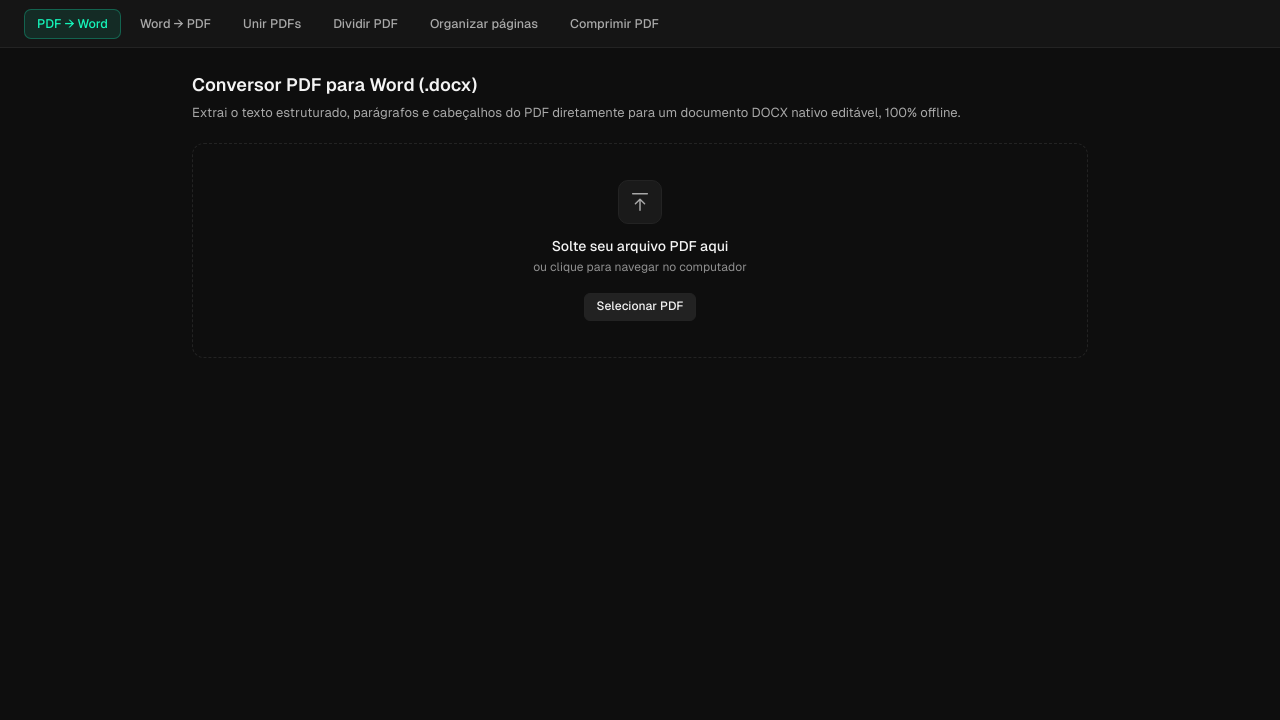
Test: Document Engine Screens Tests › handles Word to PDF LibreOffice detection status card
Click the button "Word → PDF" at (176, 24), box [127,8,224,38]
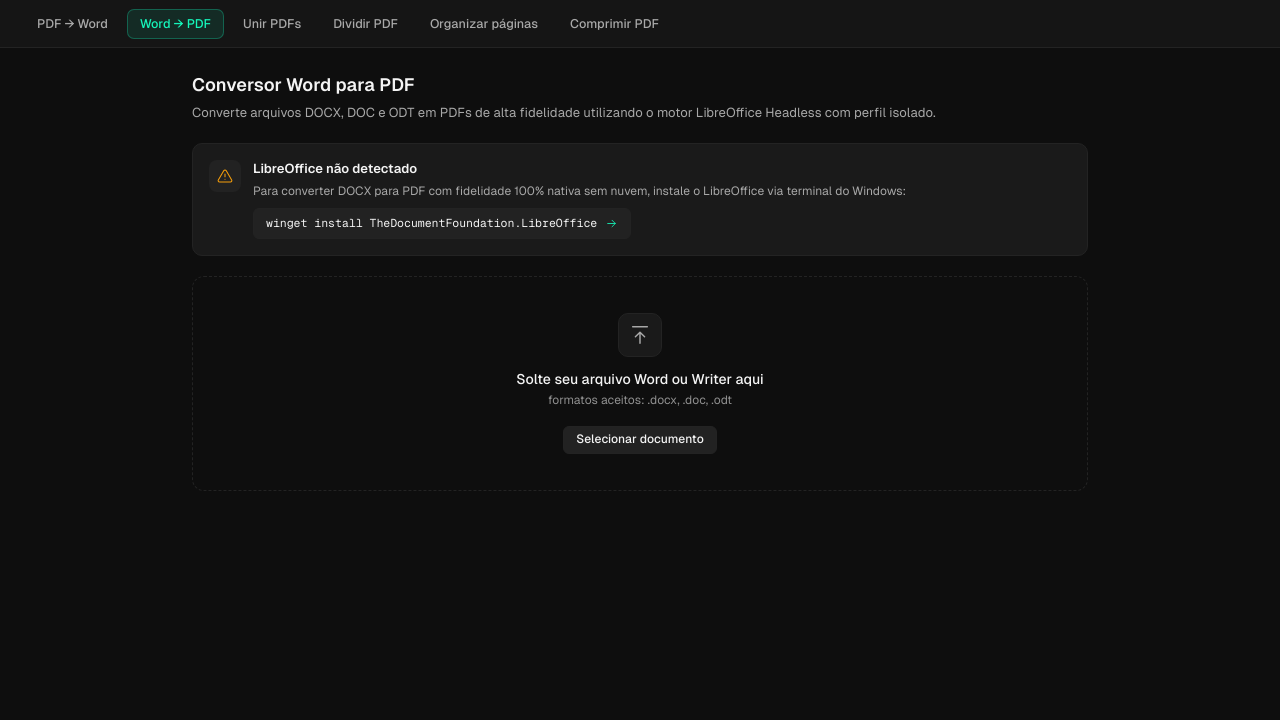
expect the text "LibreOffice não detectado" is shown: met, box [253,161,417,176]
expect the text "winget install TheDocumentFoundation.LibreOffice" is shown: met, box [266,215,597,232]
